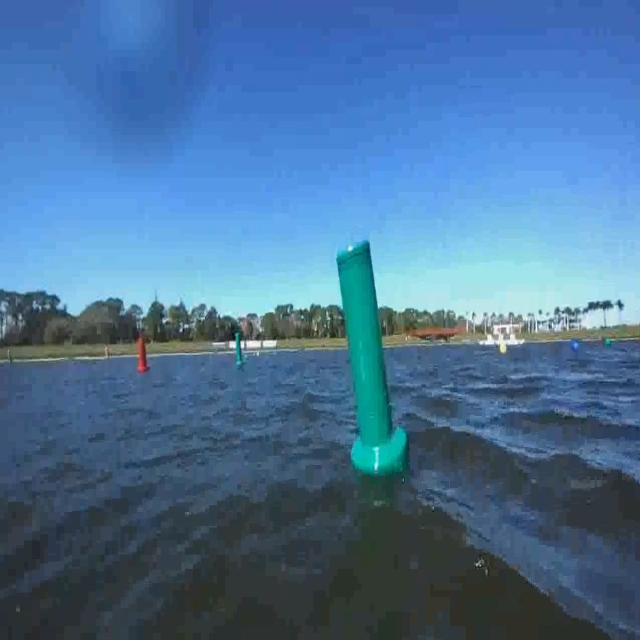blue-buoy: (570, 340, 580, 355)
green-buoy: (605, 338, 612, 349)
green-column-buoy: (334, 235, 406, 476), (235, 332, 247, 366)
red-column-buoy: (137, 335, 150, 373)
yellow-buoy: (498, 343, 507, 357)
